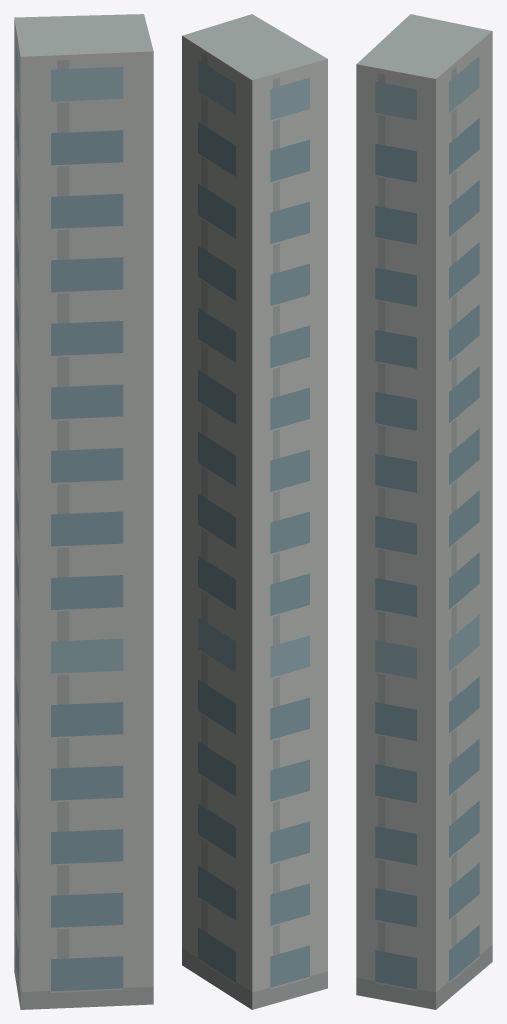
The model's file is survey-upis-32635115.glb.
3 views of the same model, side by side, from view 1: azimuth 30°, elevation 25°; view 2: azimuth 150°, elevation 25°; view 3: azimuth 270°, elevation 25° (orthographic). The views are drawn at different scales.
Parts seen in each view (by area): view 1: survey-upis-32635115.tmp; view 2: survey-upis-32635115.tmp; view 3: survey-upis-32635115.tmp.
Boxes of the visible parts, left/top/right/bottom form: survey-upis-32635115.tmp: left=14, top=14, right=153, bottom=1009; survey-upis-32635115.tmp: left=182, top=14, right=327, bottom=1009; survey-upis-32635115.tmp: left=356, top=14, right=492, bottom=1009.
Size of the model in its own units: 6.86 by 45.75 by 6.07.
